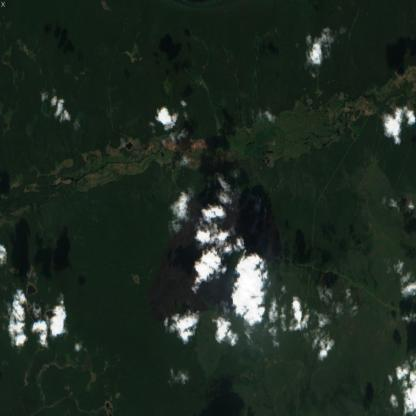fire: (192, 177, 274, 216), (25, 300, 48, 344)
